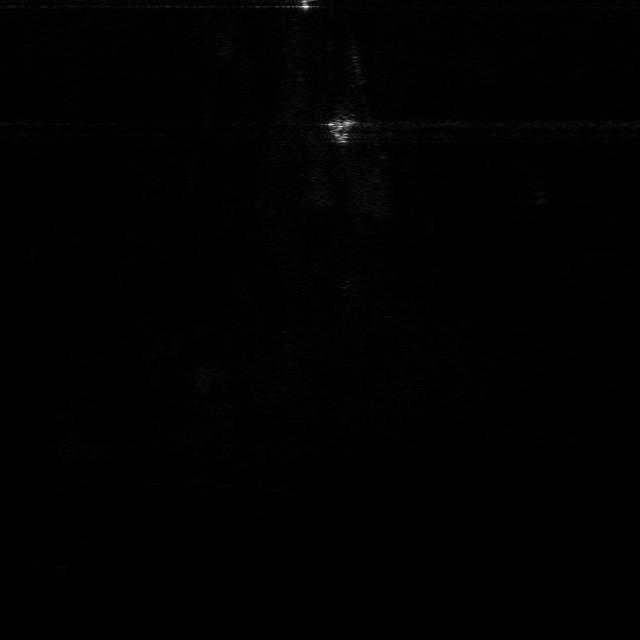rov: (316, 113, 360, 146)
